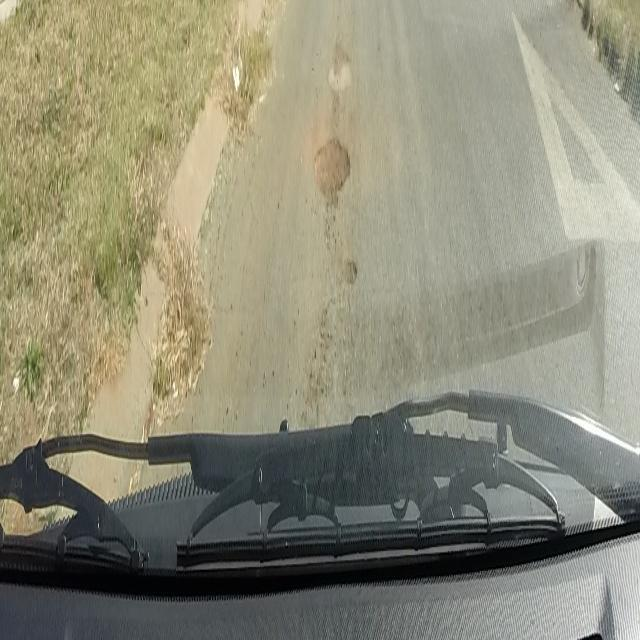pothole: (312, 130, 350, 207)
